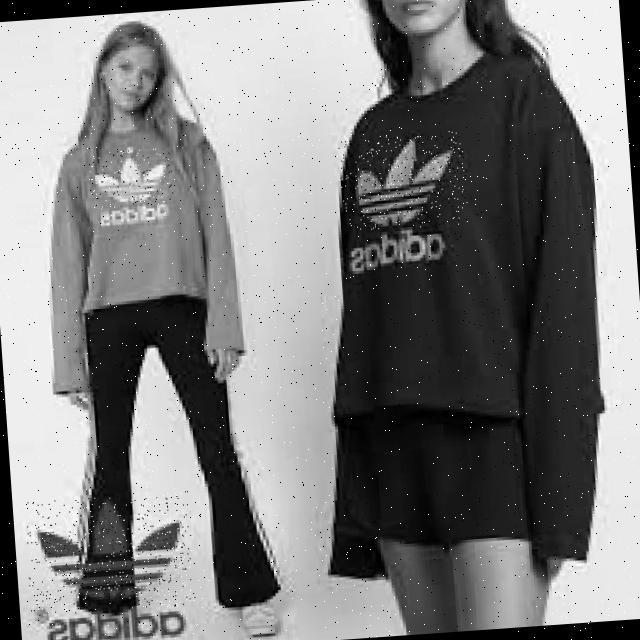Adidas: (23, 491, 196, 616), (338, 130, 469, 232), (88, 147, 174, 210)
